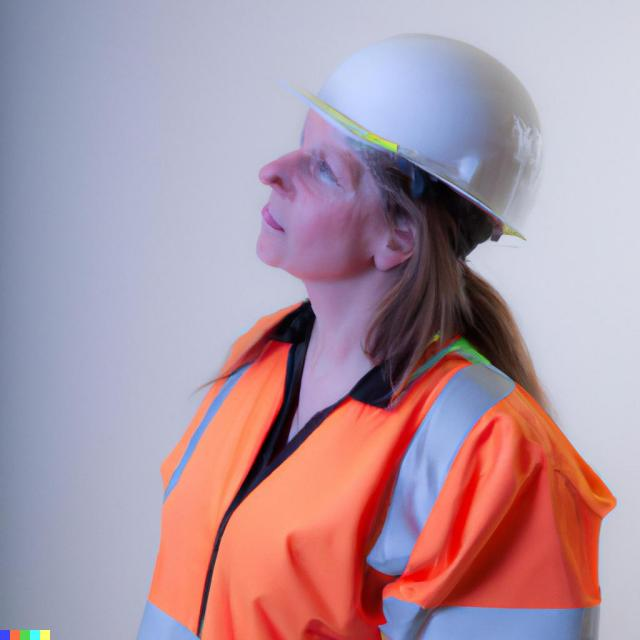Reflective-Jacket: (129, 308, 620, 634)
Safety-Helmet: (301, 30, 546, 238)
